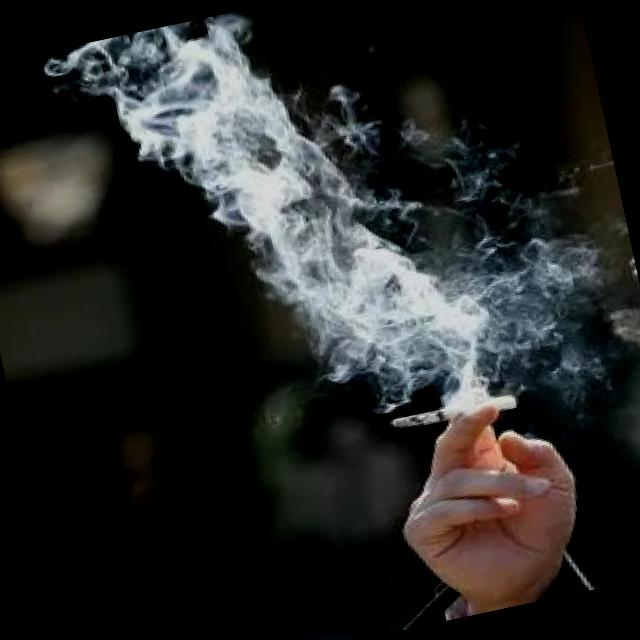cigarette: (383, 384, 533, 438)
